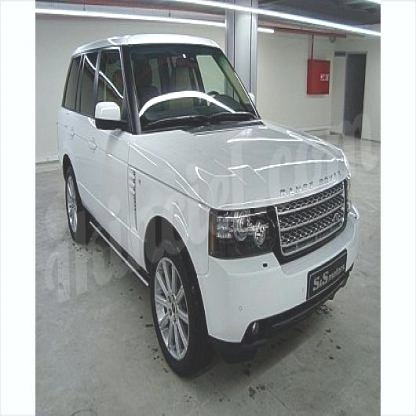Vehicle: (58, 36, 360, 380)
